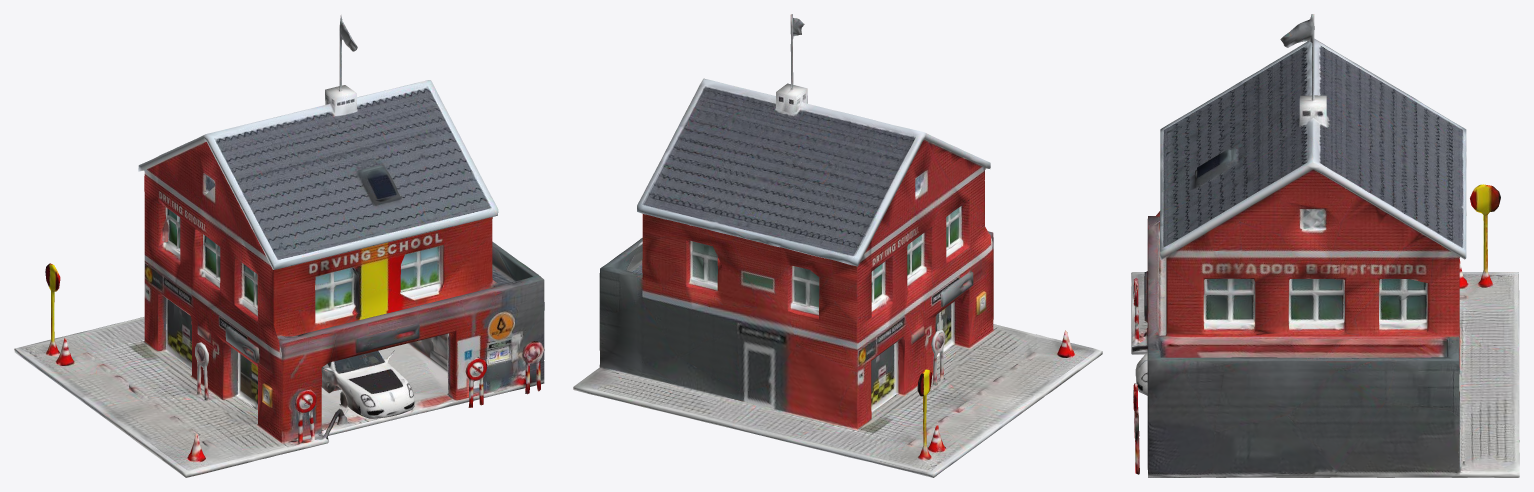
File: advanced.glb
3 renders of one model, left to right at view 1: azimuth 30°, elevation 25°; view 2: azimuth 150°, elevation 25°; view 3: azimuth 270°, elevation 25°, orthographic. The views are drawn at different scales.
Size of the model in its own units: 1.91 by 1.74 by 1.56.
Materials: 1 (1 with a texture image).
